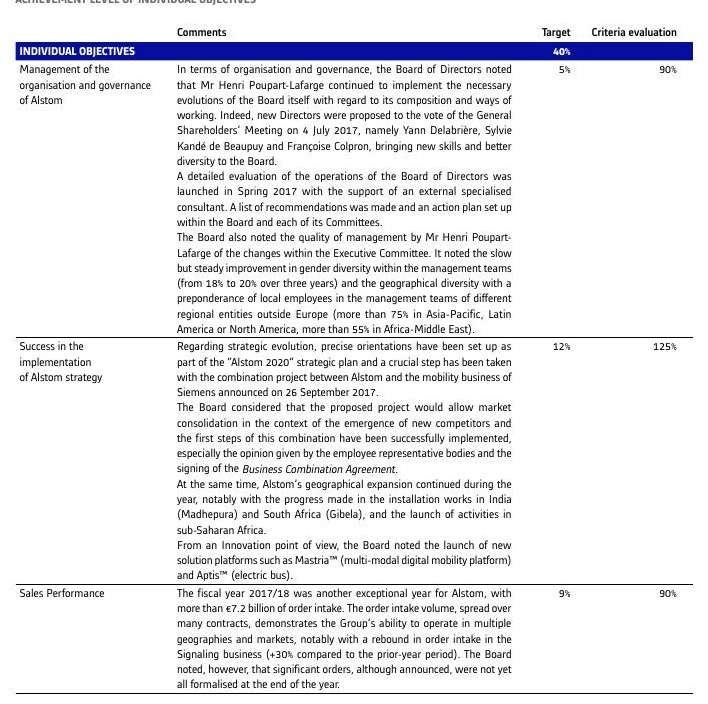table: (0, 0, 708, 704)
